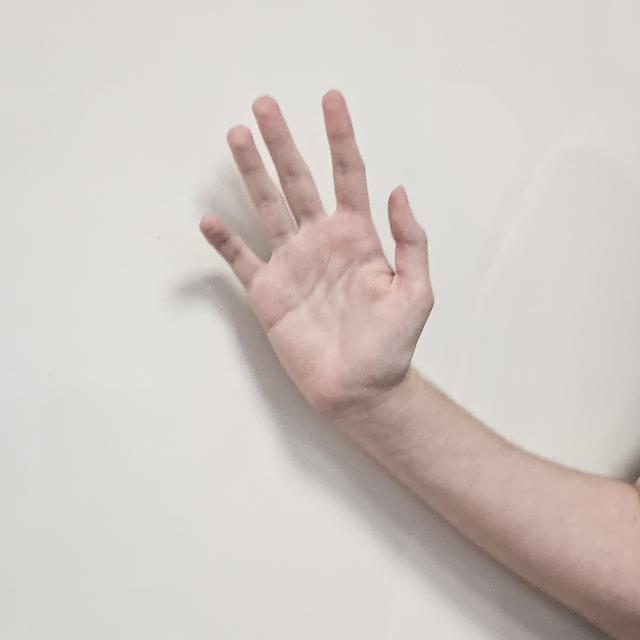X: (197, 90, 436, 422)
